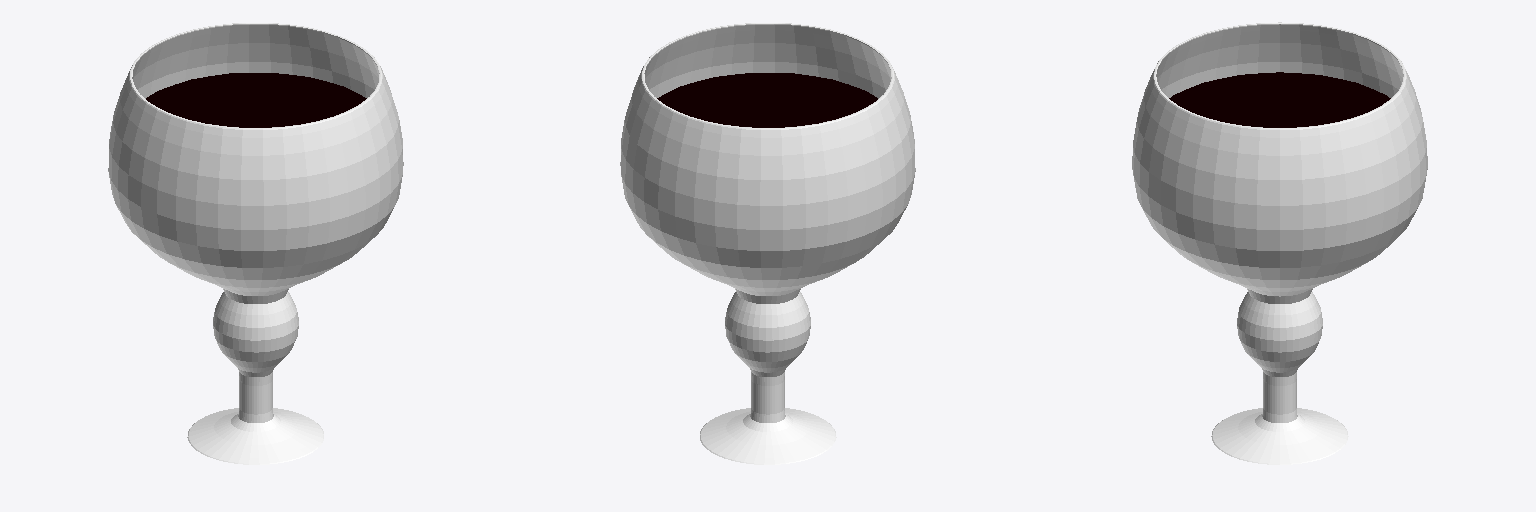
File: Wine01.obj
3 views of the same model, side by side, from view 1: azimuth 30°, elevation 25°; view 2: azimuth 150°, elevation 25°; view 3: azimuth 270°, elevation 25° (orthographic).
Parts seen in each view (by area): view 1: Wine01_Cylinder.002; view 2: Wine01_Cylinder.002; view 3: Wine01_Cylinder.002.
Boxes of the visible parts, box(x1,y1,x2,y2) form: Wine01_Cylinder.002: box(108, 23, 403, 464); Wine01_Cylinder.002: box(620, 23, 915, 464); Wine01_Cylinder.002: box(1132, 22, 1427, 464).
Bounding box in the file's own units: 2.5 × 3.36 × 2.5.